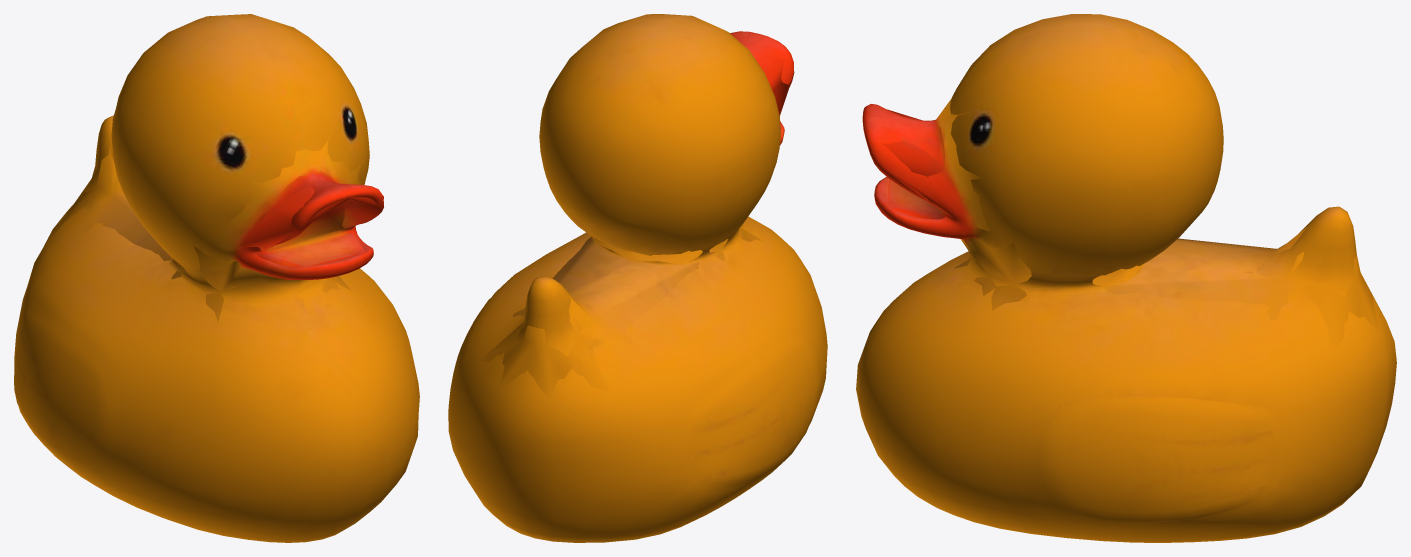
The model's file is rubber_duck_toy.glb.
3 views of the same model, side by side, from view 1: azimuth 30°, elevation 25°; view 2: azimuth 150°, elevation 25°; view 3: azimuth 270°, elevation 25° (orthographic). The views are drawn at different scales.
Visible parts, largest first — view 1: rubber_duck_toy, rubber_duck_toy_lo; view 2: rubber_duck_toy, rubber_duck_toy_lo; view 3: rubber_duck_toy, rubber_duck_toy_lo.
Part boxes in pixels (x1,y1,x2,y2): rubber_duck_toy: [14, 14, 419, 542]; rubber_duck_toy_lo: [48, 67, 382, 487]; rubber_duck_toy: [448, 14, 827, 542]; rubber_duck_toy_lo: [476, 56, 792, 535]; rubber_duck_toy: [856, 14, 1396, 542]; rubber_duck_toy_lo: [882, 45, 1388, 433].
Size of the model in its own units: 0.2135 by 0.2855 by 0.3.
1 material, 1 textured.
